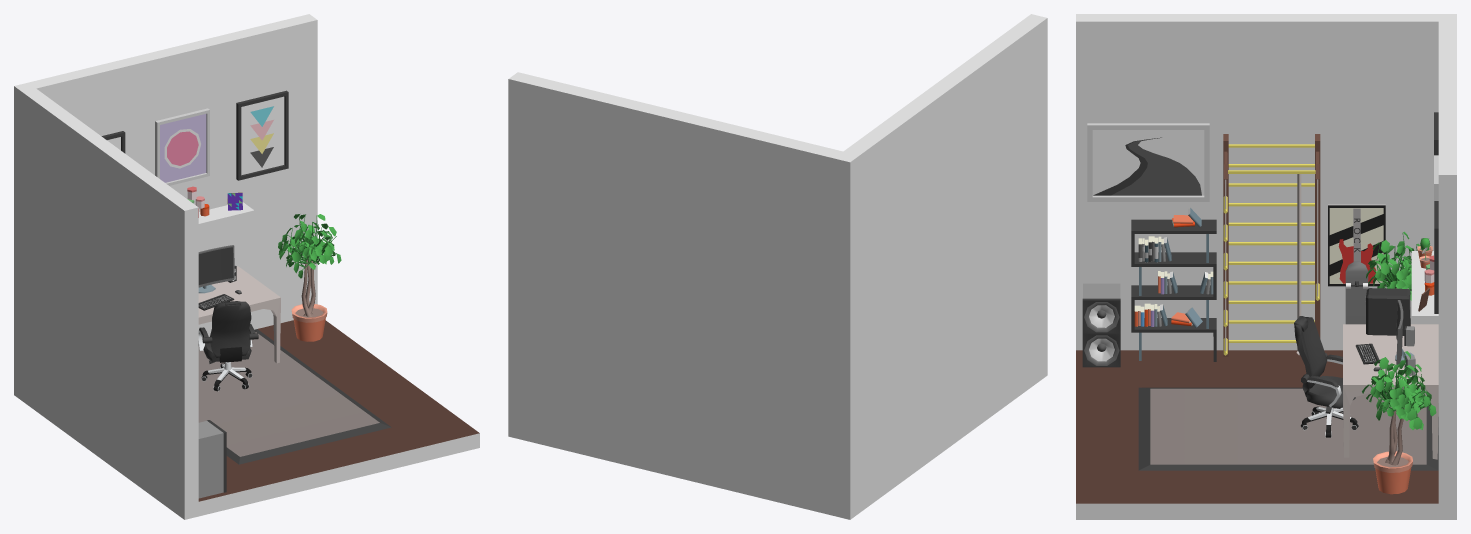
Rendered from room_28.glb.
3 views of the same model, side by side, from view 1: azimuth 30°, elevation 25°; view 2: azimuth 150°, elevation 25°; view 3: azimuth 270°, elevation 25° (orthographic). The views are drawn at different scales.
Parts seen in each view (by area): view 1: Walls_006.034, Walls_006.033, Walls_056.007, carpet_001.012, picture_050.003, flower_010.002, picture_044.001, office_chair_001.001, kitchen_table_004.003, musical_instrument_005.001, electronics_024.008, Walls_003.070; view 2: Walls_006.033, Walls_006.034; view 3: Walls_006.034, Walls_056.007, carpet_001.012, picture_010.002, Walls_006.033, training_item_018.001, kitchen_table_004.003, flower_010.002, shelf_020.001, picture_038.003, office_chair_001.001, musical_instrument_005.001 (+8 smaller).
Boxes of the visible parts, x1,y1,x2,y2 form: Walls_006.034: (14, 82, 198, 519); Walls_006.033: (28, 14, 317, 336); Walls_056.007: (198, 320, 479, 516); carpet_001.012: (198, 329, 391, 464); picture_050.003: (236, 90, 288, 180); flower_010.002: (278, 214, 341, 341); picture_044.001: (155, 108, 209, 185); office_chair_001.001: (198, 301, 258, 391); kitchen_table_004.003: (198, 266, 280, 363); musical_instrument_005.001: (198, 420, 226, 498); electronics_024.008: (198, 245, 234, 293); Walls_003.070: (198, 202, 254, 227); Walls_006.033: (508, 72, 842, 515); Walls_006.034: (834, 14, 1047, 519); Walls_006.034: (1076, 14, 1456, 350); Walls_056.007: (1076, 350, 1438, 519); carpet_001.012: (1138, 387, 1438, 470); picture_010.002: (1087, 123, 1209, 201); Walls_006.033: (1438, 21, 1456, 519); training_item_018.001: (1223, 134, 1320, 356); kitchen_table_004.003: (1343, 324, 1438, 459); flower_010.002: (1362, 351, 1436, 494); shelf_020.001: (1131, 219, 1216, 361); picture_038.003: (1328, 204, 1385, 286); office_chair_001.001: (1294, 316, 1358, 437); musical_instrument_005.001: (1082, 283, 1120, 367).
Bounding box in the file's own units: 4.2 × 4.2 × 4.2.
Materials: 1 (1 with a texture image).
